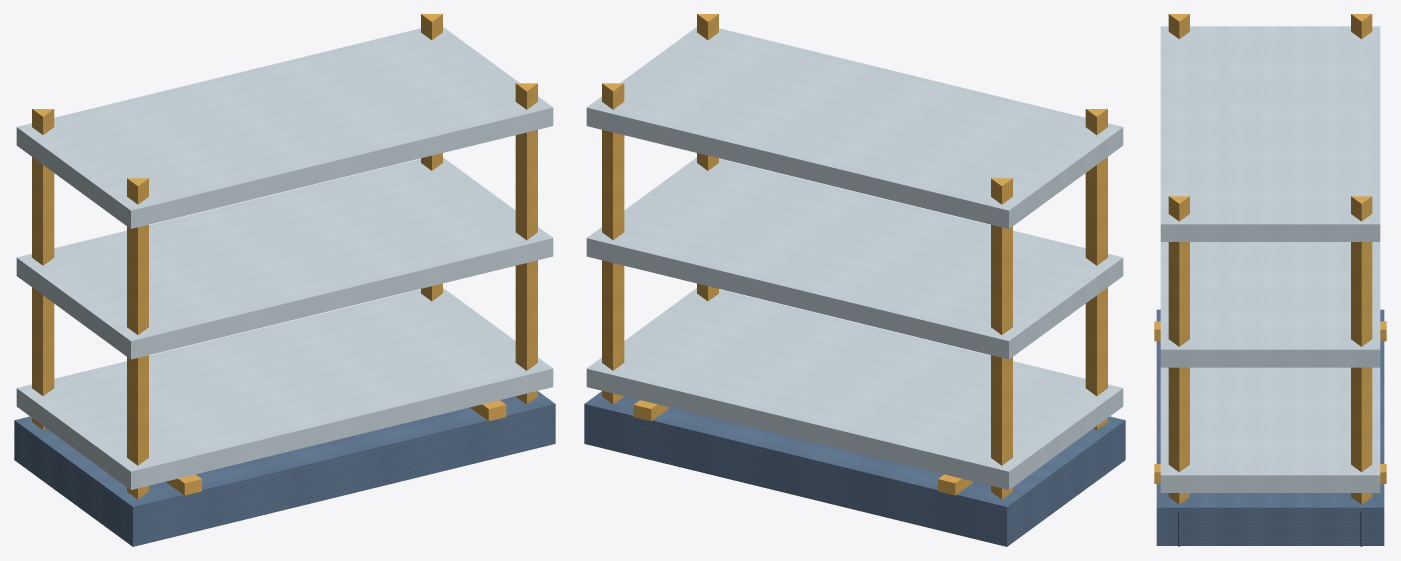
The model's file is atlas100-s057-a06.lod2.glb.
The picture shows the model from 3 angles, left to right: view 1: azimuth 30°, elevation 25°; view 2: azimuth 150°, elevation 25°; view 3: azimuth 270°, elevation 25°; orthographic projection. The views are drawn at different scales.
Visible parts, largest first — view 1: atlas100-s057-a06:part-013, atlas100-s057-a06:part-012, atlas100-s057-a06:part-011, atlas100-s057-a06:part-000, atlas100-s057-a06:part-009, atlas100-s057-a06:part-005, atlas100-s057-a06:part-003, atlas100-s057-a06:part-007; view 2: atlas100-s057-a06:part-013, atlas100-s057-a06:part-012, atlas100-s057-a06:part-011, atlas100-s057-a06:part-000, atlas100-s057-a06:part-007, atlas100-s057-a06:part-003, atlas100-s057-a06:part-005, atlas100-s057-a06:part-009; view 3: atlas100-s057-a06:part-013, atlas100-s057-a06:part-012, atlas100-s057-a06:part-011, atlas100-s057-a06:part-000, atlas100-s057-a06:part-007, atlas100-s057-a06:part-009, atlas100-s057-a06:part-003, atlas100-s057-a06:part-005, atlas100-s057-a06:part-001.
Part boxes in pixels (left/top/right/bottom): atlas100-s057-a06:part-013: left=16, top=27, right=553, bottom=228; atlas100-s057-a06:part-012: left=16, top=157, right=553, bottom=359; atlas100-s057-a06:part-011: left=16, top=288, right=553, bottom=489; atlas100-s057-a06:part-000: left=14, top=391, right=555, bottom=546; atlas100-s057-a06:part-009: left=515, top=83, right=537, bottom=404; atlas100-s057-a06:part-005: left=127, top=178, right=148, bottom=499; atlas100-s057-a06:part-003: left=32, top=109, right=54, bottom=429; atlas100-s057-a06:part-007: left=421, top=14, right=442, bottom=301; atlas100-s057-a06:part-013: left=586, top=27, right=1123, bottom=228; atlas100-s057-a06:part-012: left=586, top=157, right=1123, bottom=359; atlas100-s057-a06:part-011: left=586, top=288, right=1123, bottom=489; atlas100-s057-a06:part-000: left=584, top=391, right=1125, bottom=546; atlas100-s057-a06:part-007: left=602, top=83, right=624, bottom=404; atlas100-s057-a06:part-003: left=991, top=178, right=1012, bottom=499; atlas100-s057-a06:part-005: left=1085, top=109, right=1107, bottom=429; atlas100-s057-a06:part-009: left=697, top=14, right=718, bottom=301; atlas100-s057-a06:part-013: left=1160, top=26, right=1380, bottom=241; atlas100-s057-a06:part-012: left=1160, top=242, right=1380, bottom=367; atlas100-s057-a06:part-011: left=1160, top=367, right=1380, bottom=492; atlas100-s057-a06:part-000: left=1156, top=309, right=1384, bottom=545; atlas100-s057-a06:part-007: left=1351, top=196, right=1372, bottom=504; atlas100-s057-a06:part-009: left=1168, top=196, right=1189, bottom=504; atlas100-s057-a06:part-003: left=1351, top=14, right=1372, bottom=39; atlas100-s057-a06:part-005: left=1168, top=14, right=1189, bottom=39; atlas100-s057-a06:part-001: left=1154, top=321, right=1386, bottom=341.
Bounding box in the file's own units: 2.89 × 2.3 × 1.43.
3 materials, 3 textured.
